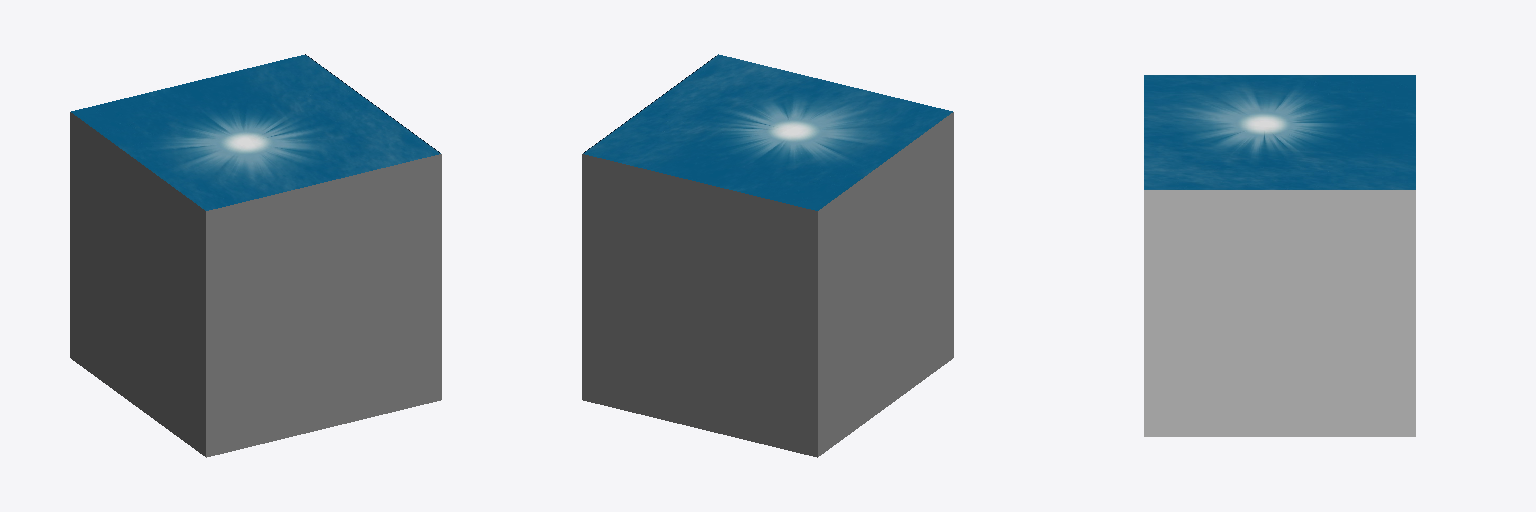
3 renders of one model, left to right at view 1: azimuth 30°, elevation 25°; view 2: azimuth 150°, elevation 25°; view 3: azimuth 270°, elevation 25°, orthographic.
Visible parts, largest first — view 1: 3DGeom~4, 3DGeom~1, 3DGeom~6; view 2: 3DGeom~2, 3DGeom~1, 3DGeom~6; view 3: 3DGeom~3, 3DGeom~6.
Part boxes in pixels (x1,y1,x2,y2): 3DGeom~4: (206,154,441,457); 3DGeom~1: (70,112,205,456); 3DGeom~6: (71,54,440,210); 3DGeom~2: (582,154,817,457); 3DGeom~1: (818,112,953,456); 3DGeom~6: (583,54,952,210); 3DGeom~3: (1144,190,1415,436); 3DGeom~6: (1144,75,1415,189).
Bounding box in the file's own units: 3 × 3 × 3.
Materials: 6 (1 with a texture image).